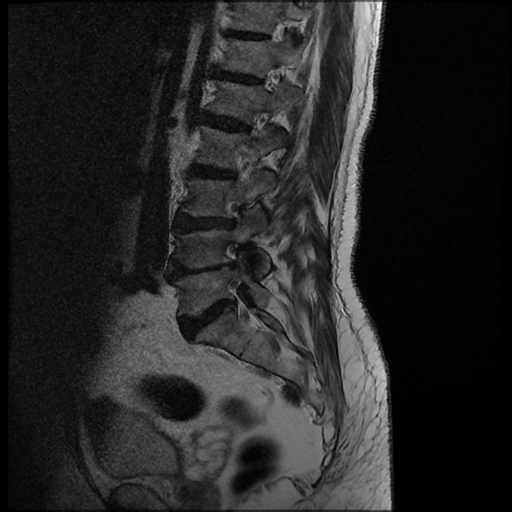RFS1: (210, 234, 252, 275)
